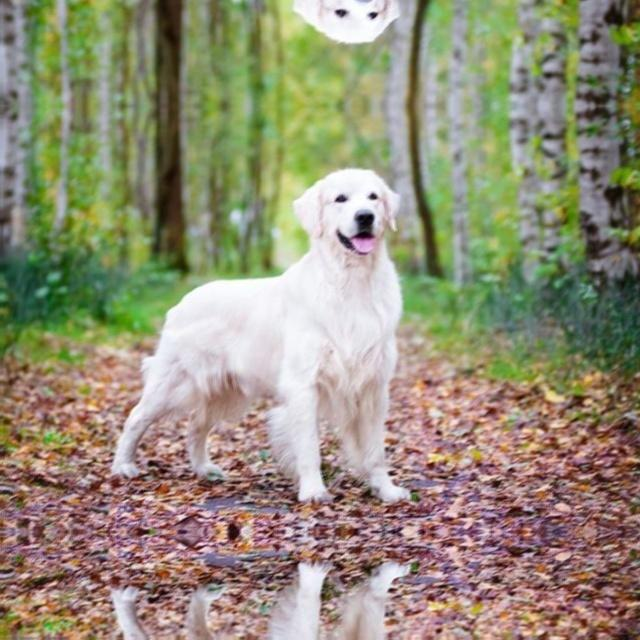dog: (114, 167, 434, 506), (114, 559, 434, 640), (114, 0, 434, 45)
